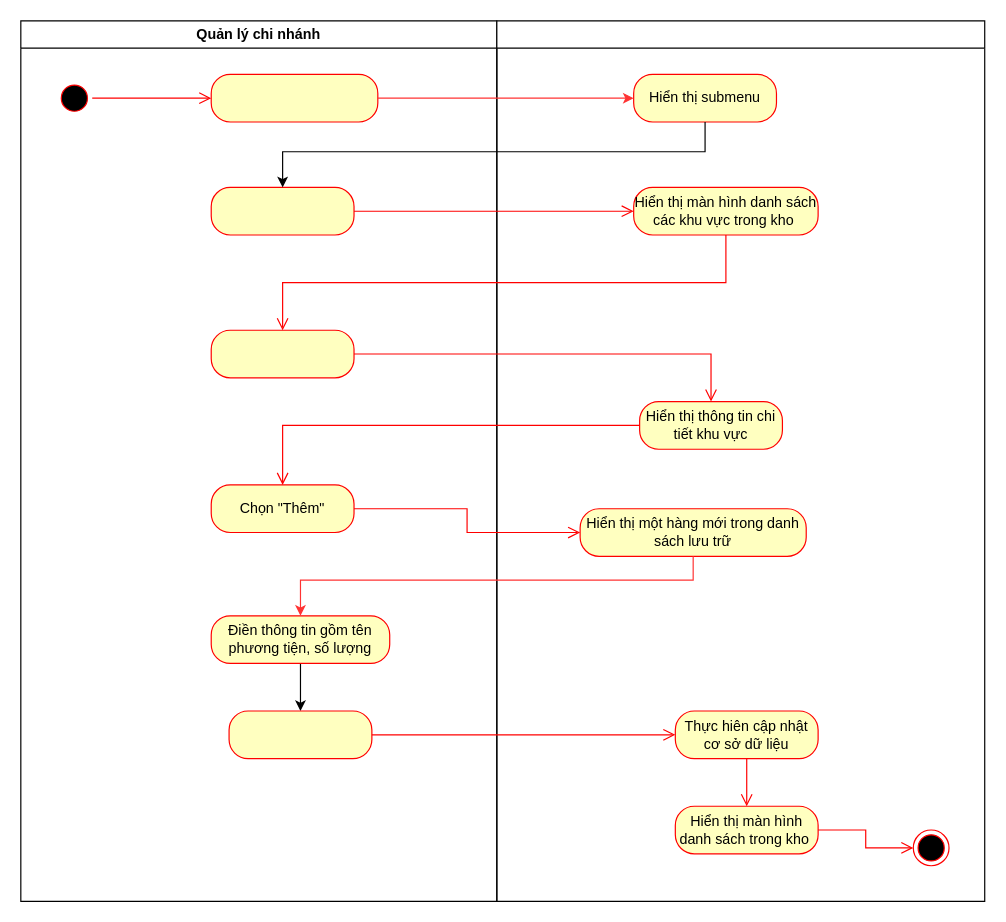
Some shapes in this 1006 by 922 pixel diagram are drawn without their labels. Each missing label, with the box of its shape:
Chọn "Điều chỉnh vị trí trong kho": (210, 186, 354, 235)
Chọn khu vực muốn điều chỉnh: (210, 329, 354, 378)
Chọn quản lý vị trí trong kho trên thanh menu: (210, 73, 378, 122)
Hệ thống: (496, 20, 985, 901)
Nhấn "Lưu": (228, 710, 372, 759)
